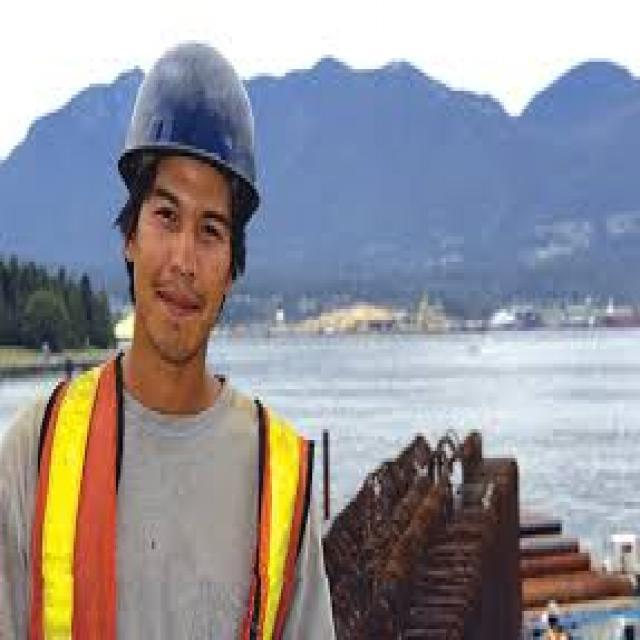reflective_jacket: (20, 352, 327, 636)
safety_helmet: (109, 33, 272, 222)
